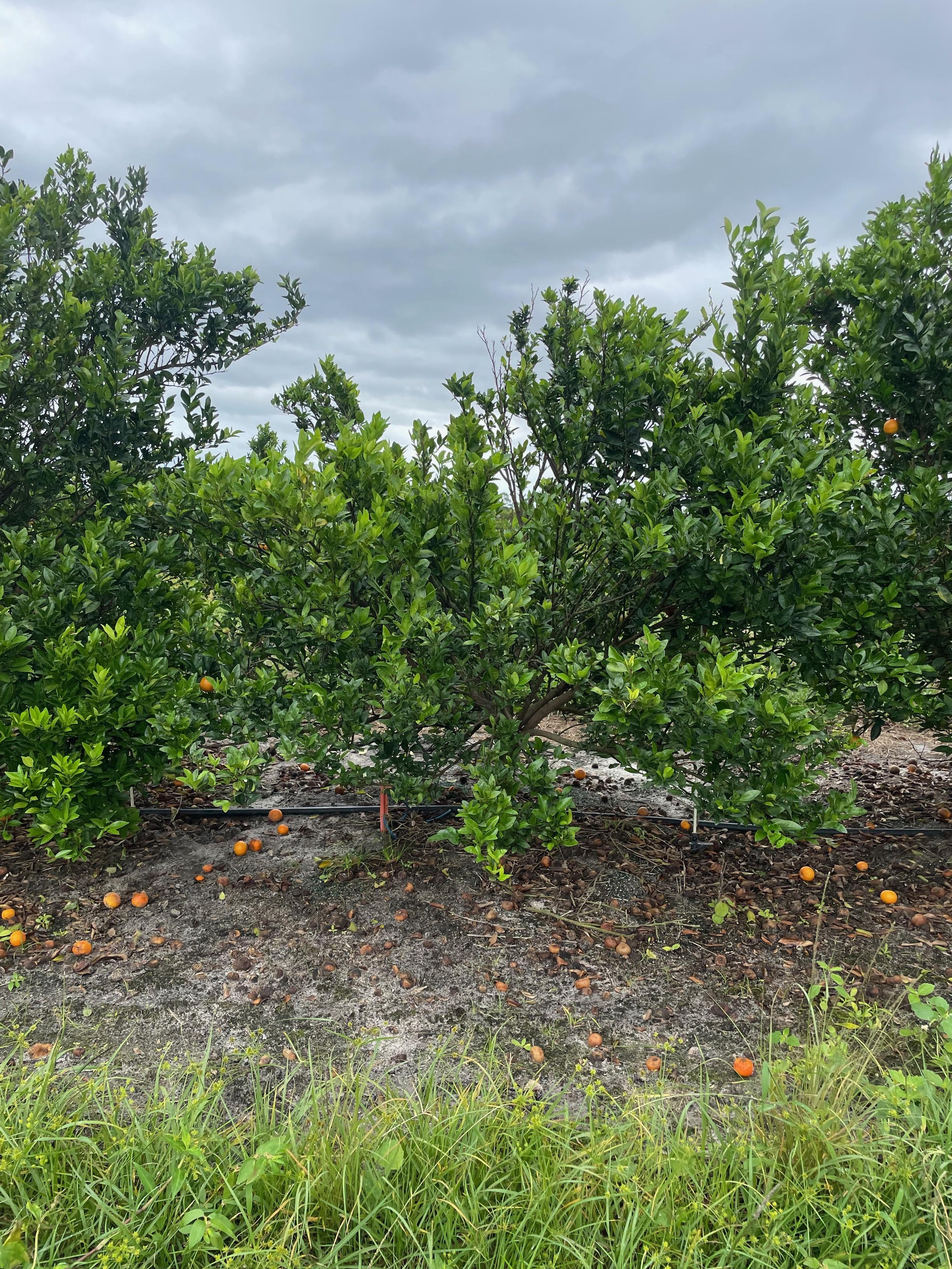fruit_on_ground: (196, 673, 219, 695), (880, 416, 903, 438), (256, 540, 269, 553)
fruit_on_tree: (731, 1055, 756, 1078), (796, 863, 818, 884), (101, 889, 122, 909), (908, 911, 930, 930), (71, 937, 93, 956), (878, 887, 900, 906), (527, 1044, 546, 1065), (8, 928, 28, 947), (130, 889, 150, 908), (645, 1054, 663, 1072), (586, 1031, 604, 1048), (0, 904, 17, 921), (266, 806, 284, 822), (741, 965, 758, 981), (232, 839, 248, 856), (573, 975, 591, 990), (615, 941, 632, 956), (713, 952, 729, 967), (572, 766, 588, 781), (538, 853, 553, 868), (248, 837, 263, 852), (602, 935, 618, 949), (399, 975, 415, 989), (635, 804, 651, 818), (854, 859, 870, 873), (936, 806, 951, 820), (394, 907, 409, 921), (275, 822, 290, 836), (217, 874, 231, 888), (151, 933, 166, 946), (600, 920, 615, 933), (887, 762, 901, 775), (321, 960, 336, 972), (298, 761, 313, 773), (0, 862, 10, 879), (548, 942, 561, 955), (202, 860, 215, 873), (679, 818, 693, 830), (43, 937, 56, 949), (403, 880, 415, 893), (332, 783, 346, 794), (193, 872, 205, 883)
